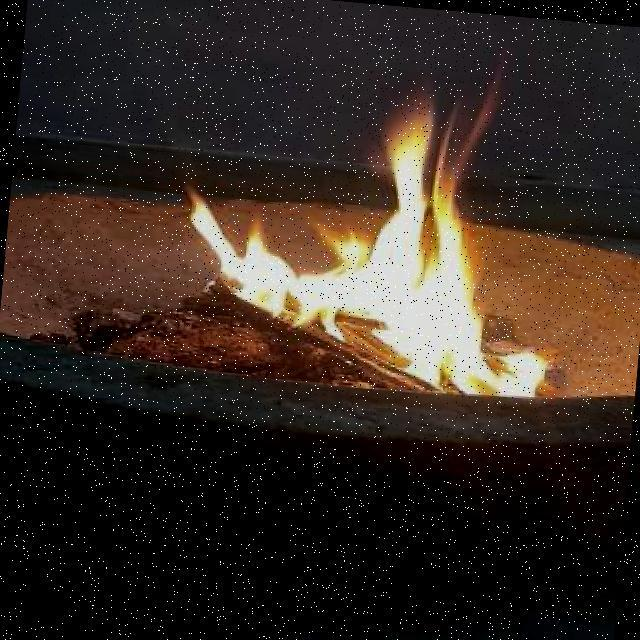Fire: (155, 35, 585, 407)
